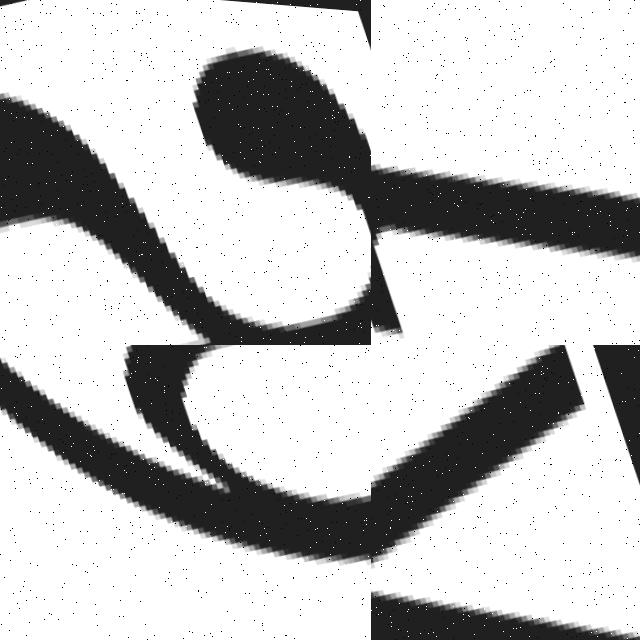1: (371, 0, 640, 345)
9: (0, 345, 371, 640)
A: (0, 0, 371, 345)
Y: (371, 345, 640, 640)
